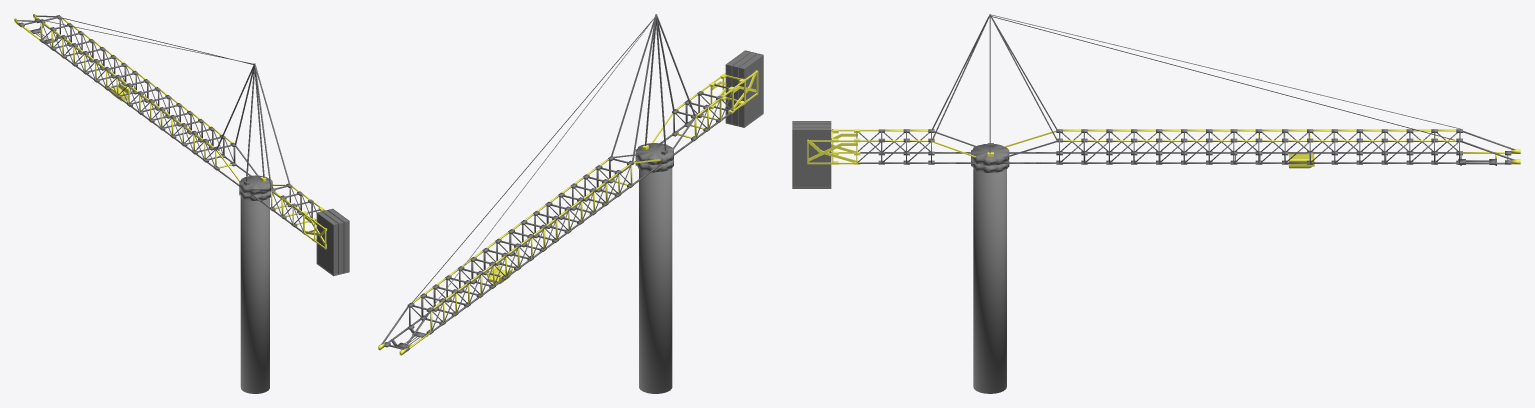
Rendered from Grua (FBX).FBX.
3 renders of one model, left to right at view 1: azimuth 30°, elevation 25°; view 2: azimuth 150°, elevation 25°; view 3: azimuth 270°, elevation 25°, orthographic. The views are drawn at different scales.
Visible parts, largest first — view 1: grua; view 2: grua; view 3: grua.
Boxes of the visible parts, bbox=[...] form: grua: bbox=[14, 14, 349, 393]; grua: bbox=[378, 14, 763, 393]; grua: bbox=[792, 14, 1520, 393].
Size of the model in its own units: 5.84 by 61.35 by 109.
